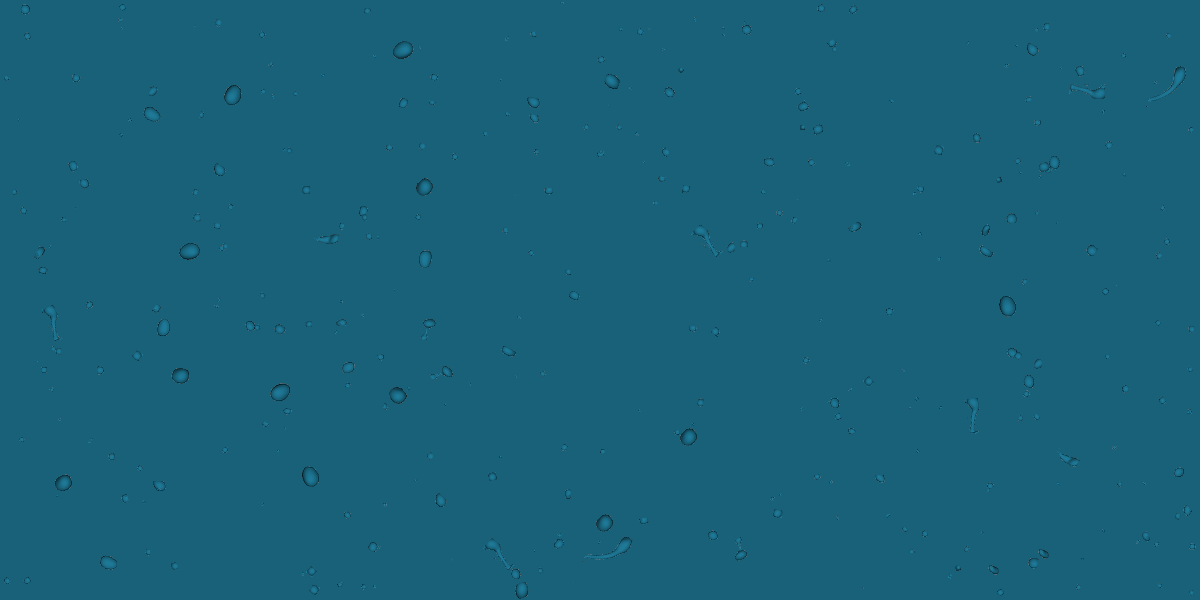Detached ligament: (581, 523, 635, 580), (1146, 60, 1188, 115), (690, 223, 727, 259), (482, 537, 519, 572), (40, 304, 68, 343), (963, 397, 985, 435), (427, 360, 455, 388), (727, 535, 753, 563), (1054, 447, 1081, 469), (1069, 84, 1105, 99), (417, 318, 437, 341), (314, 233, 339, 244)
drop: (216, 80, 248, 111), (382, 381, 410, 409), (590, 511, 618, 539), (674, 425, 702, 453), (410, 175, 438, 203), (176, 239, 205, 265), (994, 293, 1020, 321), (49, 472, 76, 497), (298, 464, 322, 491), (139, 104, 163, 128), (267, 381, 292, 403), (167, 366, 191, 387), (392, 40, 416, 61), (97, 554, 119, 575), (602, 72, 622, 92), (975, 243, 995, 262), (414, 249, 433, 269), (156, 318, 175, 338), (1080, 241, 1099, 261), (847, 219, 867, 238), (512, 581, 531, 600), (431, 492, 450, 511), (33, 243, 51, 263), (497, 344, 518, 361), (364, 537, 383, 555), (210, 162, 229, 180), (1046, 154, 1064, 172), (706, 527, 723, 546), (1023, 42, 1042, 59), (76, 176, 94, 193), (1021, 373, 1038, 391), (795, 99, 812, 116), (740, 22, 756, 40), (661, 84, 677, 100), (1178, 502, 1194, 518), (1001, 210, 1018, 225), (1004, 345, 1020, 360), (81, 298, 97, 313), (272, 322, 288, 337), (551, 536, 566, 552), (508, 566, 523, 581), (827, 395, 842, 410), (845, 424, 860, 439), (19, 3, 33, 19), (1025, 557, 1039, 573), (526, 96, 542, 110), (845, 3, 861, 17), (341, 508, 355, 523), (341, 360, 356, 374), (979, 222, 993, 237), (66, 159, 80, 174), (567, 289, 582, 303), (1073, 64, 1087, 79), (396, 96, 410, 111), (152, 480, 168, 493), (762, 156, 776, 170), (69, 73, 82, 88), (35, 264, 50, 277), (243, 319, 257, 332), (1173, 465, 1186, 479), (982, 480, 996, 493), (919, 528, 932, 542), (449, 151, 462, 165), (1036, 547, 1050, 560), (986, 563, 1000, 576), (811, 123, 825, 136), (1160, 235, 1173, 248), (255, 28, 268, 41), (710, 325, 723, 338), (1101, 137, 1114, 150), (21, 575, 34, 588), (151, 303, 164, 316), (658, 146, 671, 159), (826, 38, 839, 51), (220, 444, 233, 457), (812, 471, 825, 484), (217, 242, 230, 255), (814, 2, 827, 15), (308, 583, 321, 596), (131, 349, 144, 362), (862, 375, 875, 388), (305, 565, 318, 578), (281, 405, 295, 417), (1140, 530, 1152, 544), (594, 149, 607, 161), (427, 72, 440, 84), (118, 492, 130, 505), (357, 205, 369, 218), (526, 113, 540, 124), (800, 355, 812, 367), (211, 222, 223, 234), (638, 516, 650, 528), (1013, 156, 1025, 168), (1022, 388, 1034, 400), (1119, 383, 1131, 395), (883, 305, 895, 317), (933, 144, 945, 156), (96, 365, 109, 376), (872, 474, 886, 484), (21, 30, 32, 42), (595, 55, 607, 66), (792, 86, 803, 98), (832, 411, 843, 423), (772, 508, 784, 519), (1152, 250, 1163, 261), (681, 184, 692, 195), (1031, 413, 1042, 424), (2, 74, 13, 85), (416, 141, 427, 152), (424, 451, 435, 462), (260, 420, 271, 431), (806, 157, 817, 168), (1157, 395, 1168, 406), (289, 89, 300, 100), (774, 209, 785, 220), (898, 524, 909, 535), (1100, 286, 1111, 297), (995, 587, 1006, 598), (117, 2, 128, 13), (560, 442, 571, 453), (1152, 318, 1163, 329), (525, 248, 536, 259), (189, 213, 201, 223), (1038, 162, 1050, 172), (726, 240, 735, 253), (149, 86, 158, 99), (1033, 356, 1042, 369), (972, 131, 981, 144), (528, 30, 538, 41), (1039, 22, 1050, 32), (688, 325, 698, 336), (106, 451, 116, 462), (788, 215, 798, 226), (543, 187, 554, 197), (213, 18, 223, 29), (189, 187, 199, 198), (10, 188, 20, 199), (915, 185, 926, 195), (225, 201, 235, 212), (635, 27, 646, 37), (1013, 350, 1023, 361), (752, 222, 765, 230), (564, 488, 572, 501), (1187, 541, 1197, 551), (580, 122, 590, 132), (1163, 32, 1173, 42), (376, 353, 386, 363), (414, 213, 424, 223), (342, 380, 352, 390), (19, 206, 29, 216), (114, 15, 124, 25), (301, 185, 311, 195), (563, 268, 572, 279), (384, 144, 395, 153), (2, 576, 11, 587), (1022, 94, 1033, 103), (336, 221, 345, 232), (500, 226, 509, 237), (739, 237, 748, 247), (596, 447, 606, 456), (198, 111, 207, 121), (426, 99, 436, 108), (1019, 277, 1028, 287), (1033, 119, 1043, 128), (135, 464, 144, 474), (1186, 125, 1195, 135), (46, 385, 55, 395), (170, 561, 179, 571), (335, 319, 347, 326), (1044, 166, 1053, 175), (502, 109, 511, 118), (1119, 52, 1128, 61), (1152, 540, 1161, 549), (17, 435, 26, 444), (532, 147, 541, 156), (359, 582, 368, 591), (59, 215, 68, 224), (1115, 480, 1124, 489), (614, 123, 623, 132), (1185, 365, 1194, 374), (758, 187, 767, 196), (365, 232, 374, 241), (488, 472, 497, 481), (536, 566, 545, 575), (285, 146, 294, 155), (258, 291, 267, 300), (253, 323, 262, 332), (1173, 512, 1182, 521), (143, 548, 151, 558), (673, 429, 681, 439), (1187, 325, 1195, 335), (54, 347, 62, 357), (40, 365, 48, 375), (1186, 408, 1194, 417), (363, 7, 372, 15), (335, 581, 344, 589), (1159, 204, 1167, 213), (1155, 582, 1163, 590), (632, 131, 640, 139), (1032, 25, 1040, 33), (1133, 537, 1141, 545), (913, 395, 921, 403), (117, 131, 125, 139), (1074, 583, 1082, 591), (481, 130, 489, 138), (259, 87, 267, 95), (1103, 353, 1111, 361), (884, 512, 892, 520), (887, 97, 895, 105), (267, 61, 275, 69), (747, 276, 755, 284), (126, 116, 134, 124), (916, 230, 924, 238), (818, 316, 826, 324), (964, 40, 972, 48), (215, 297, 223, 305), (677, 66, 685, 74), (954, 564, 962, 572), (995, 176, 1003, 184), (658, 176, 667, 183), (697, 398, 704, 407), (49, 344, 58, 351), (554, 531, 563, 538), (1111, 445, 1120, 452), (914, 447, 921, 455), (907, 547, 915, 554), (830, 46, 837, 54), (798, 405, 805, 413), (358, 312, 366, 319), (221, 241, 227, 250), (383, 403, 389, 412), (298, 570, 305, 577), (515, 315, 522, 322), (1100, 108, 1107, 115), (827, 479, 834, 486), (1185, 410, 1192, 417), (720, 25, 727, 32), (846, 386, 853, 393), (617, 26, 624, 33), (213, 303, 220, 310), (332, 328, 339, 335), (155, 486, 162, 493), (319, 71, 326, 78), (381, 501, 388, 508), (936, 255, 943, 262), (1003, 62, 1010, 69), (769, 495, 776, 502), (799, 124, 806, 131), (361, 214, 368, 221), (652, 200, 658, 208), (1100, 528, 1107, 534), (338, 298, 344, 305), (964, 546, 970, 553), (1188, 590, 1195, 596), (539, 371, 546, 377), (558, 0, 565, 6), (1018, 415, 1024, 422), (937, 404, 943, 411), (844, 161, 851, 167), (504, 35, 510, 42), (305, 321, 312, 327), (741, 20, 747, 26), (636, 408, 642, 414), (281, 147, 287, 153), (1055, 481, 1061, 487), (660, 47, 666, 53), (275, 447, 281, 453), (1017, 170, 1023, 176), (1141, 481, 1147, 487), (47, 244, 53, 250), (442, 402, 448, 408), (16, 117, 22, 123), (1013, 43, 1019, 49), (1037, 174, 1043, 180), (260, 501, 266, 507), (690, 421, 696, 427), (54, 494, 60, 500), (1053, 220, 1059, 226), (626, 85, 632, 91), (826, 258, 832, 264), (141, 499, 147, 505), (375, 235, 381, 241), (692, 16, 697, 23), (270, 93, 275, 100), (1079, 556, 1086, 561), (497, 455, 504, 460), (598, 150, 605, 155), (88, 437, 93, 444), (33, 358, 39, 363), (467, 381, 472, 387), (371, 584, 377, 589), (912, 190, 917, 196), (372, 54, 377, 60), (413, 478, 419, 483), (777, 492, 783, 497), (1034, 211, 1040, 216), (56, 417, 62, 422), (720, 33, 726, 38), (986, 489, 991, 495), (1100, 84, 1105, 90), (835, 515, 840, 521), (406, 386, 411, 392), (647, 27, 652, 32), (449, 557, 454, 562), (1058, 66, 1063, 71), (642, 160, 647, 165), (392, 288, 397, 293), (282, 425, 287, 430), (513, 374, 518, 379), (606, 104, 611, 109), (119, 26, 124, 31), (907, 406, 912, 411), (826, 400, 831, 405), (948, 573, 952, 579), (192, 24, 196, 29), (861, 587, 866, 591), (533, 549, 537, 554), (377, 545, 381, 550), (901, 369, 905, 374), (417, 45, 421, 50), (499, 78, 503, 83), (73, 205, 77, 210), (1122, 173, 1126, 178), (980, 531, 985, 535), (573, 582, 577, 586), (804, 510, 808, 514), (1017, 550, 1021, 554), (343, 324, 347, 328), (1114, 284, 1118, 288), (513, 194, 516, 197), (795, 198, 798, 201)
